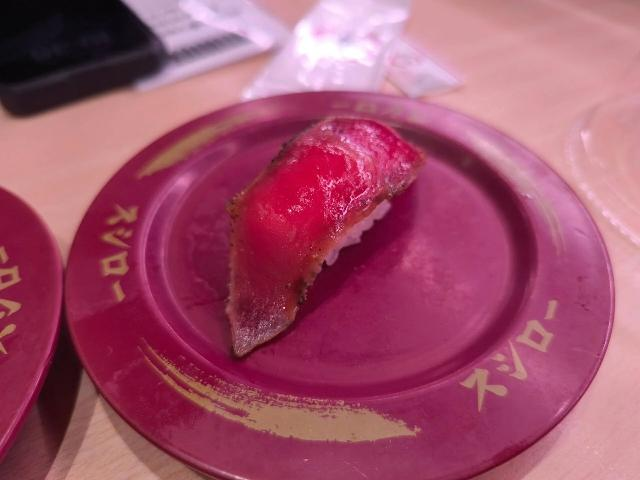janred: (80, 87, 626, 457), (0, 171, 76, 467)
